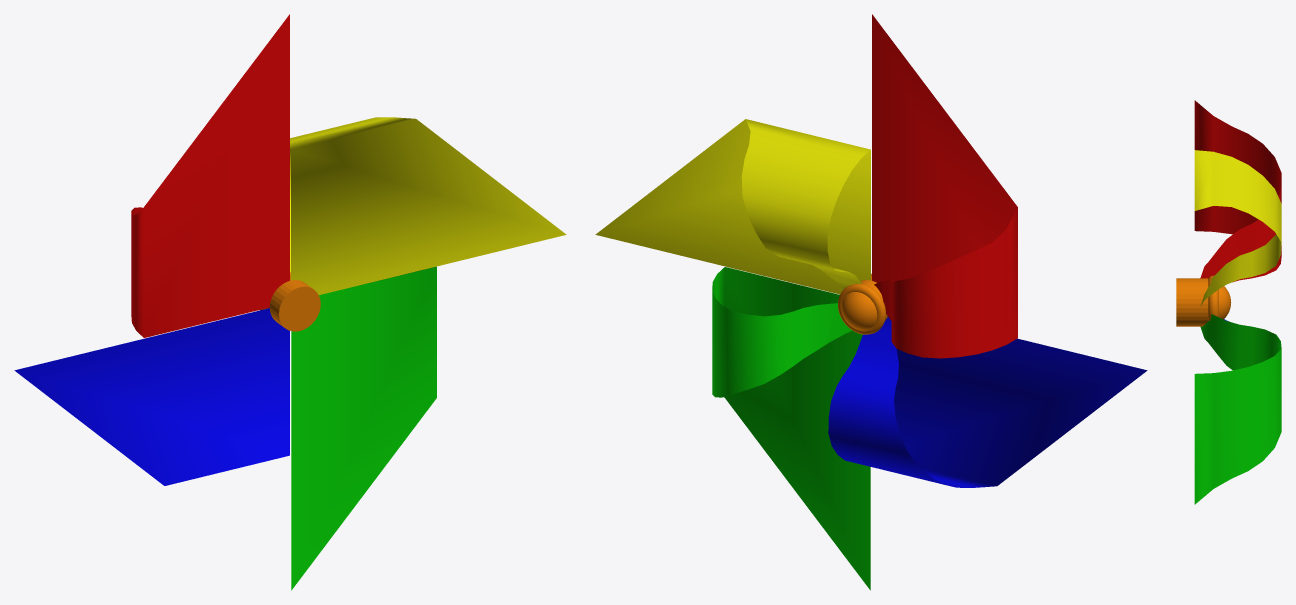
Rendered from windmill_another.fbx.
3 views of the same model, side by side, from view 1: azimuth 30°, elevation 25°; view 2: azimuth 150°, elevation 25°; view 3: azimuth 270°, elevation 25° (orthographic).
Visible parts, largest first — view 1: Cylinder.002; view 2: Cylinder.002; view 3: Cylinder.002.
Part boxes in pixels (box(x1,y1,x2,y2)): Cylinder.002: box(14, 14, 566, 590); Cylinder.002: box(595, 14, 1147, 590); Cylinder.002: box(1176, 100, 1281, 504).
Bounding box in the file's own units: 3.31 × 3.3 × 0.5467.
